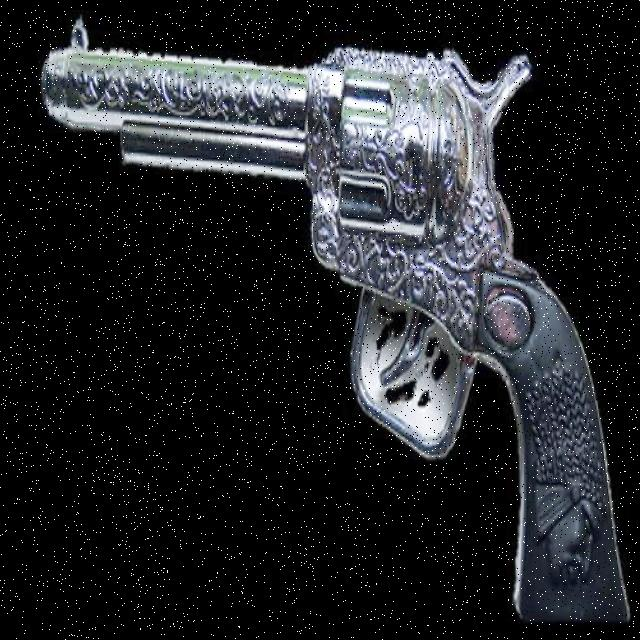Guns: (44, 43, 629, 615)
